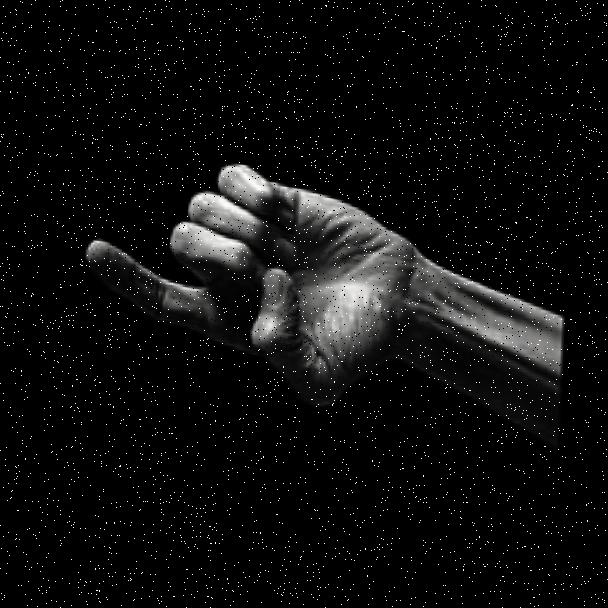one: (55, 131, 476, 432)
